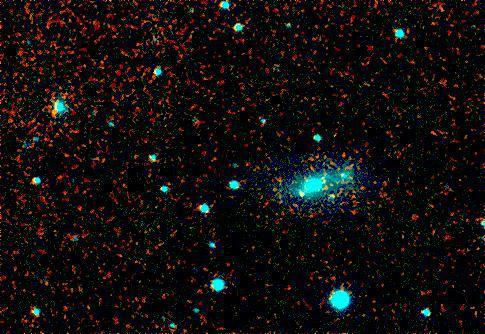star: (285, 179, 315, 209)
